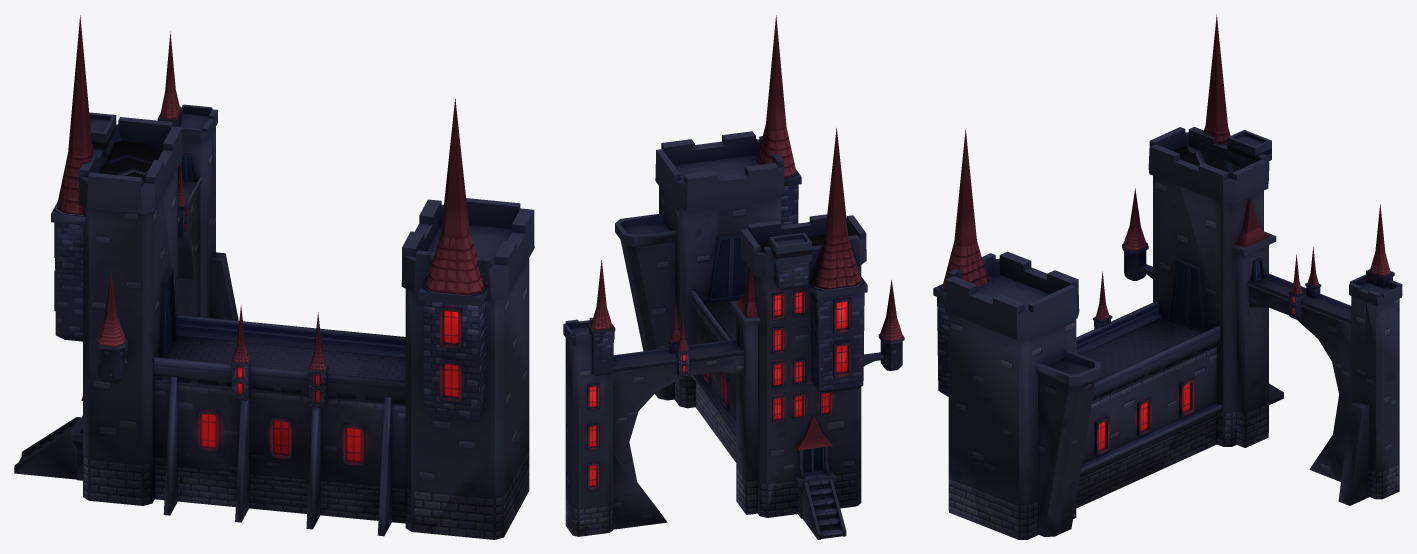
Rendered from Castillo_villanos_destruido.fbx.
3 views of the same model, side by side, from view 1: azimuth 30°, elevation 25°; view 2: azimuth 150°, elevation 25°; view 3: azimuth 270°, elevation 25° (orthographic). The views are drawn at different scales.
Parts seen in each view (by area): view 1: parte_castillo.061, parte_castillo.003, parte_castillo, parte_castillo.156, parte_castillo.076, parte_castillo.060, parte_castillo.108, parte_castillo.148, parte_castillo.075, parte_castillo.065, parte_castillo.153, parte_castillo.149 (+38 smaller); view 2: parte_castillo.156, parte_castillo.003, parte_castillo.005, parte_castillo.073, parte_castillo.107, parte_castillo.119, parte_castillo.029, parte_castillo.108, parte_castillo.061, parte_castillo.076, parte_castillo.153, parte_castillo.099 (+41 smaller); view 3: parte_castillo.076, parte_castillo.061, parte_castillo.156, parte_castillo, parte_castillo.107, parte_castillo.005, parte_castillo.108, parte_castillo.074, parte_castillo.060, parte_castillo.098, parte_castillo.024, parte_castillo.153 (+27 smaller).
Part boxes in pixels (box(x1,y1,x2,y2)): parte_castillo.061: box(218, 342, 405, 518); parte_castillo.003: box(83, 334, 171, 505); parte_castillo: box(83, 183, 177, 370); parte_castillo.156: box(401, 198, 534, 299); parte_castillo.076: box(405, 258, 529, 450); parte_castillo.060: box(154, 335, 249, 455); parte_castillo.108: box(79, 117, 181, 214); parte_castillo.148: box(153, 357, 405, 405); parte_castillo.075: box(405, 383, 500, 487); parte_castillo.065: box(433, 445, 514, 539); parte_castillo.153: box(424, 99, 484, 295); parte_castillo.149: box(176, 315, 405, 357); parte_castillo.156: box(655, 131, 784, 211); parte_castillo.003: box(758, 387, 861, 508); parte_castillo.005: box(746, 235, 824, 409); parte_castillo.073: box(674, 207, 720, 321); parte_castillo.107: box(736, 315, 757, 514); parte_castillo.119: box(811, 128, 861, 289); parte_castillo.029: box(573, 432, 612, 533); parte_castillo.108: box(740, 214, 866, 277); parte_castillo.061: box(695, 298, 736, 460); parte_castillo.076: box(659, 186, 745, 308); parte_castillo.153: box(756, 15, 796, 177); parte_castillo.099: box(629, 252, 674, 323); parte_castillo.076: box(948, 321, 1064, 453); parte_castillo.061: box(1076, 339, 1179, 508); parte_castillo.156: box(945, 251, 1079, 340); parte_castillo: box(1153, 175, 1225, 334); parte_castillo.107: box(1236, 245, 1268, 447); parte_castillo.005: box(1180, 154, 1263, 335); parte_castillo.108: box(1148, 126, 1268, 203); parte_castillo.074: box(968, 453, 1037, 539); parte_castillo.060: box(1113, 317, 1216, 405); parte_castillo.098: box(1038, 358, 1094, 441); parte_castillo.024: box(1351, 349, 1399, 427); parte_castillo.153: box(942, 129, 987, 290).
Bounding box in the file's own units: 2773 × 3185 × 3456.
